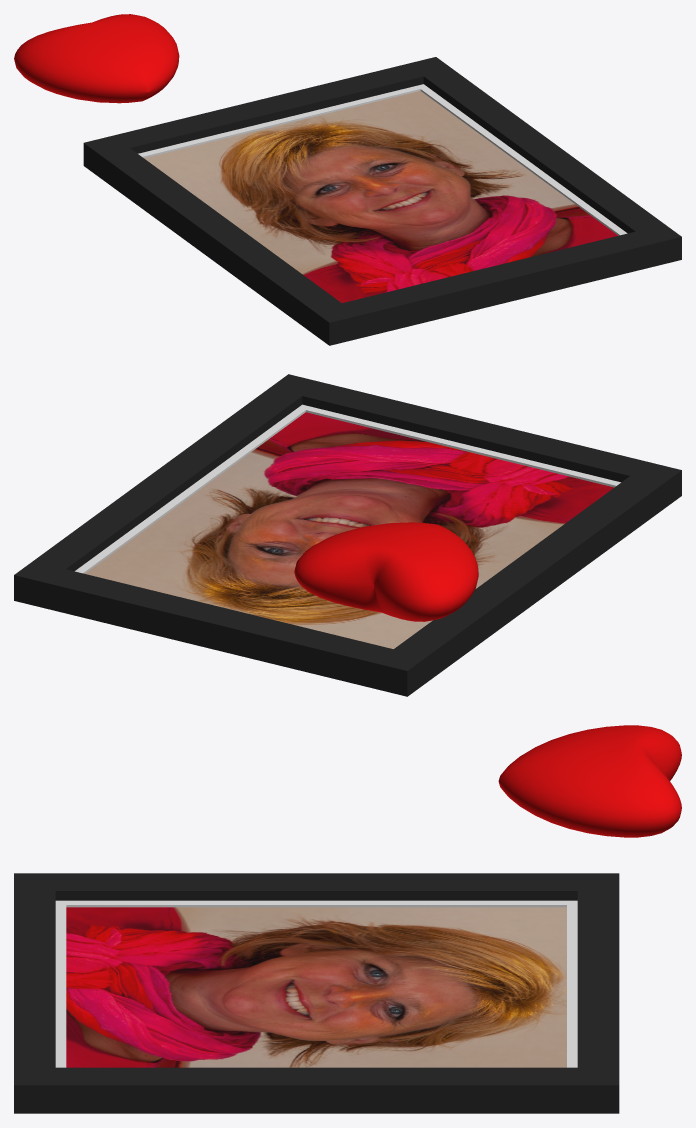
Rendered from Bert_Partner.glb.
The picture shows the model from 3 angles, top to bottom: view 1: azimuth 30°, elevation 25°; view 2: azimuth 150°, elevation 25°; view 3: azimuth 270°, elevation 25°; orthographic projection. The views are drawn at different scales.
Visible parts, largest first — view 1: PhotoPlane.002, BuitenFrame, SurfSphere, BinnenFrame; view 2: PhotoPlane.002, BuitenFrame, SurfSphere, BinnenFrame; view 3: PhotoPlane.002, BuitenFrame, SurfSphere, BinnenFrame.
Boxes of the visible parts, x1,y1,x2,y2 form: PhotoPlane.002: (144,91,617,302); BuitenFrame: (83,57,681,345); SurfSphere: (14,14,179,103); BinnenFrame: (138,84,627,235); PhotoPlane.002: (85,412,613,648); BuitenFrame: (14,374,681,696); SurfSphere: (294,522,478,621); BinnenFrame: (75,404,620,573); PhotoPlane.002: (66,907,566,1067); BuitenFrame: (14,873,619,1113); SurfSphere: (498,725,681,837); BinnenFrame: (55,900,577,1067).
Size of the model in its own units: 0.5563 by 0.1754 by 0.6401.
Materials: 4 (1 with a texture image).
